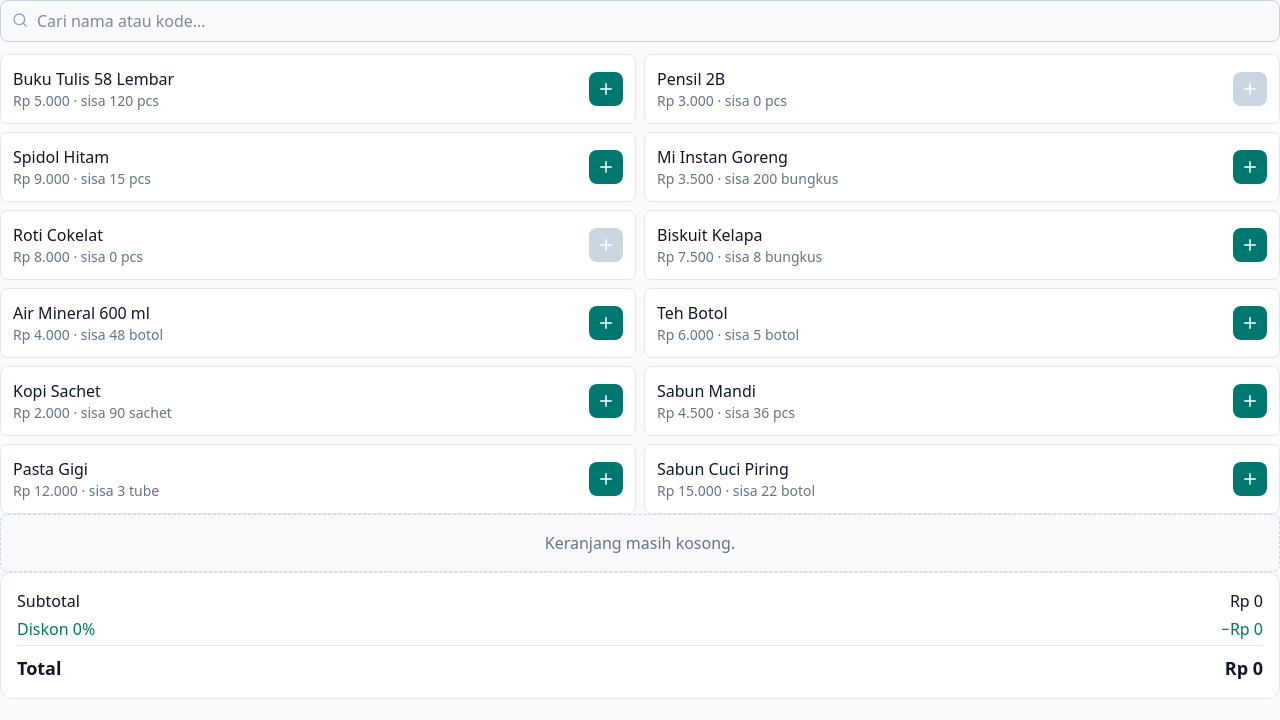
Test: Kasir: keranjang dan diskon › mengetik jumlah 14 sabun + 2 air memberi diskon 15% dan total Rp 185.300
Click the button named "Tambah Sabun Cuci Piring ke keranjang" at (1250,479), box [1233,462,1267,496]
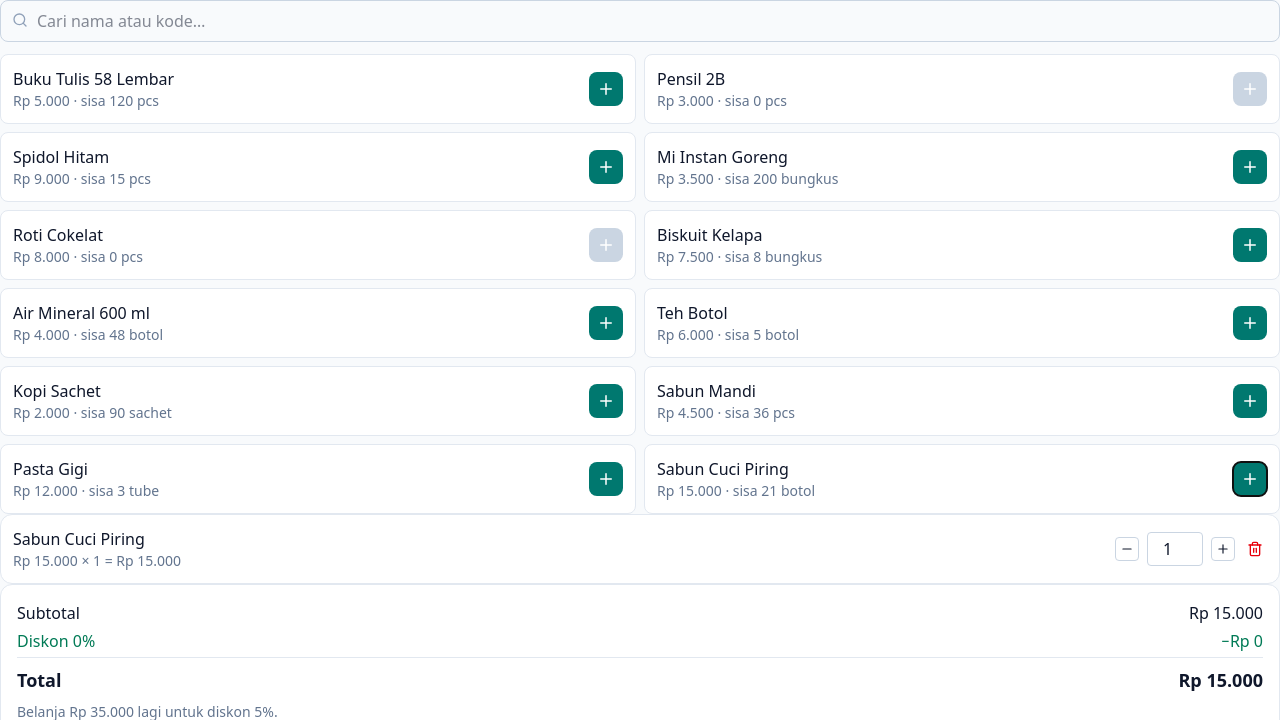
Click the button named "Tambah Air Mineral 600 ml ke keranjang" at (606,323), box [589,306,623,340]
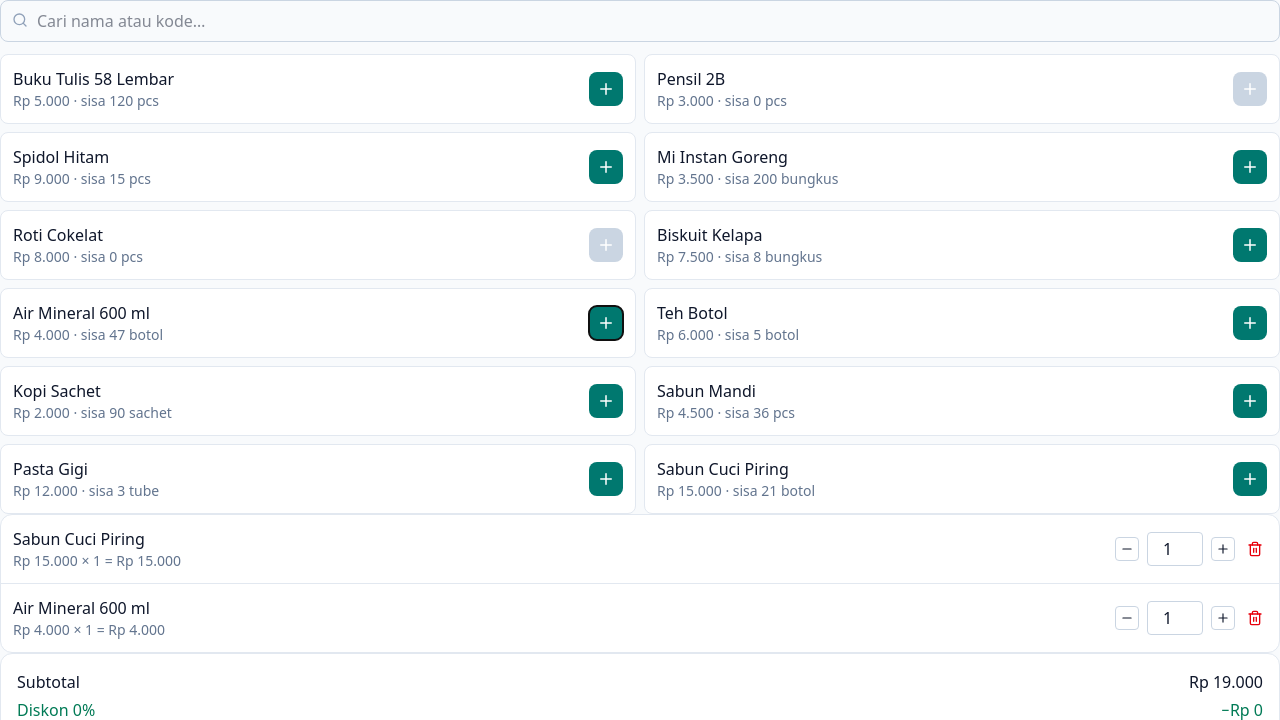
Replace the text in the number field named "Jumlah Sabun Cuci Piring" with "14" at (1175,549), box [1147,532,1203,566]
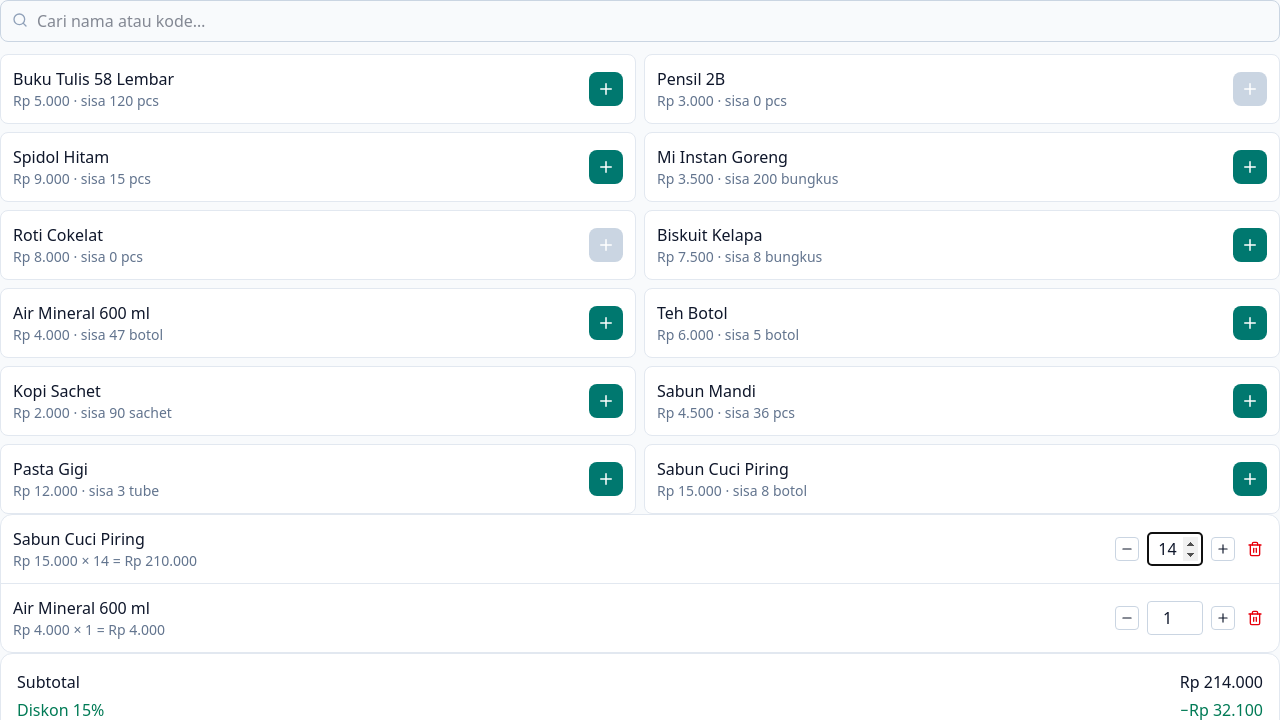
Click the button named "Tambah Air Mineral 600 ml" at (1223,618), box [1211,606,1235,630]
(page scrolled)
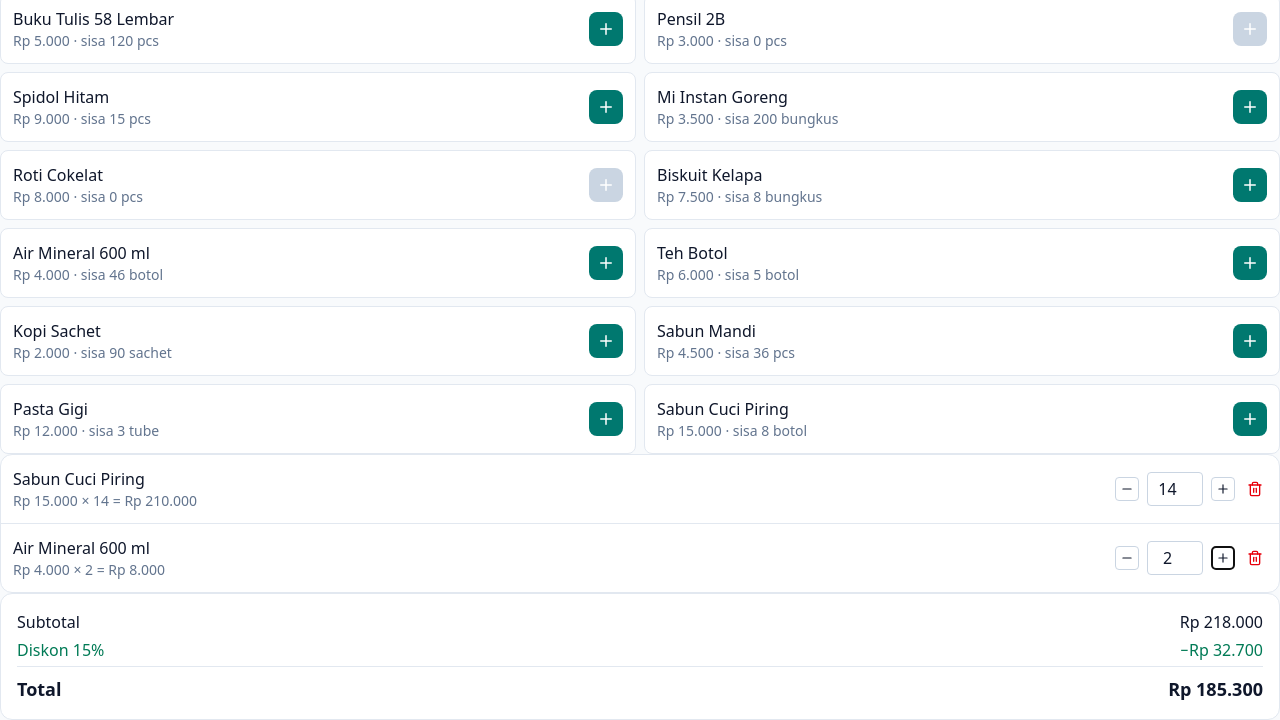
Check: the text "Diskon 15%" is shown, box [17,638,104,662]
Check: the text "Rp 185.300" is shown, box [1168,675,1263,703]
